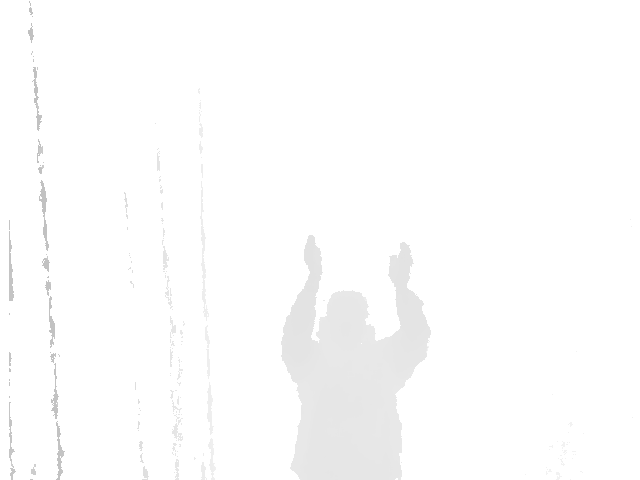hand: (388, 241, 416, 292), (301, 229, 327, 278)
head: (316, 290, 378, 349)
person: (280, 229, 433, 480)
